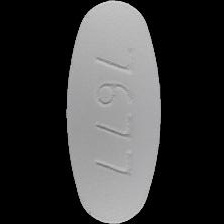42291-512: (0, 0, 224, 224)
